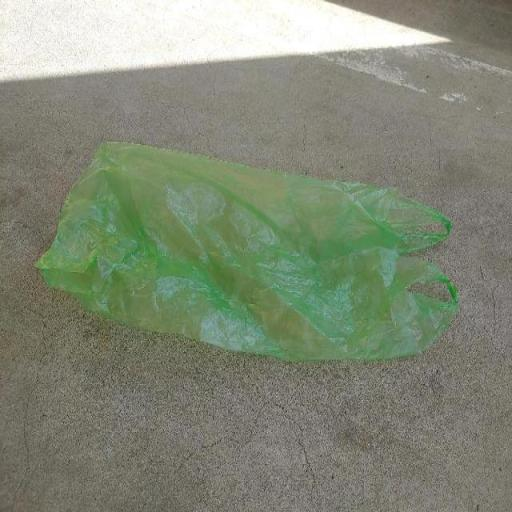plastic-bag: (30, 138, 460, 366)
